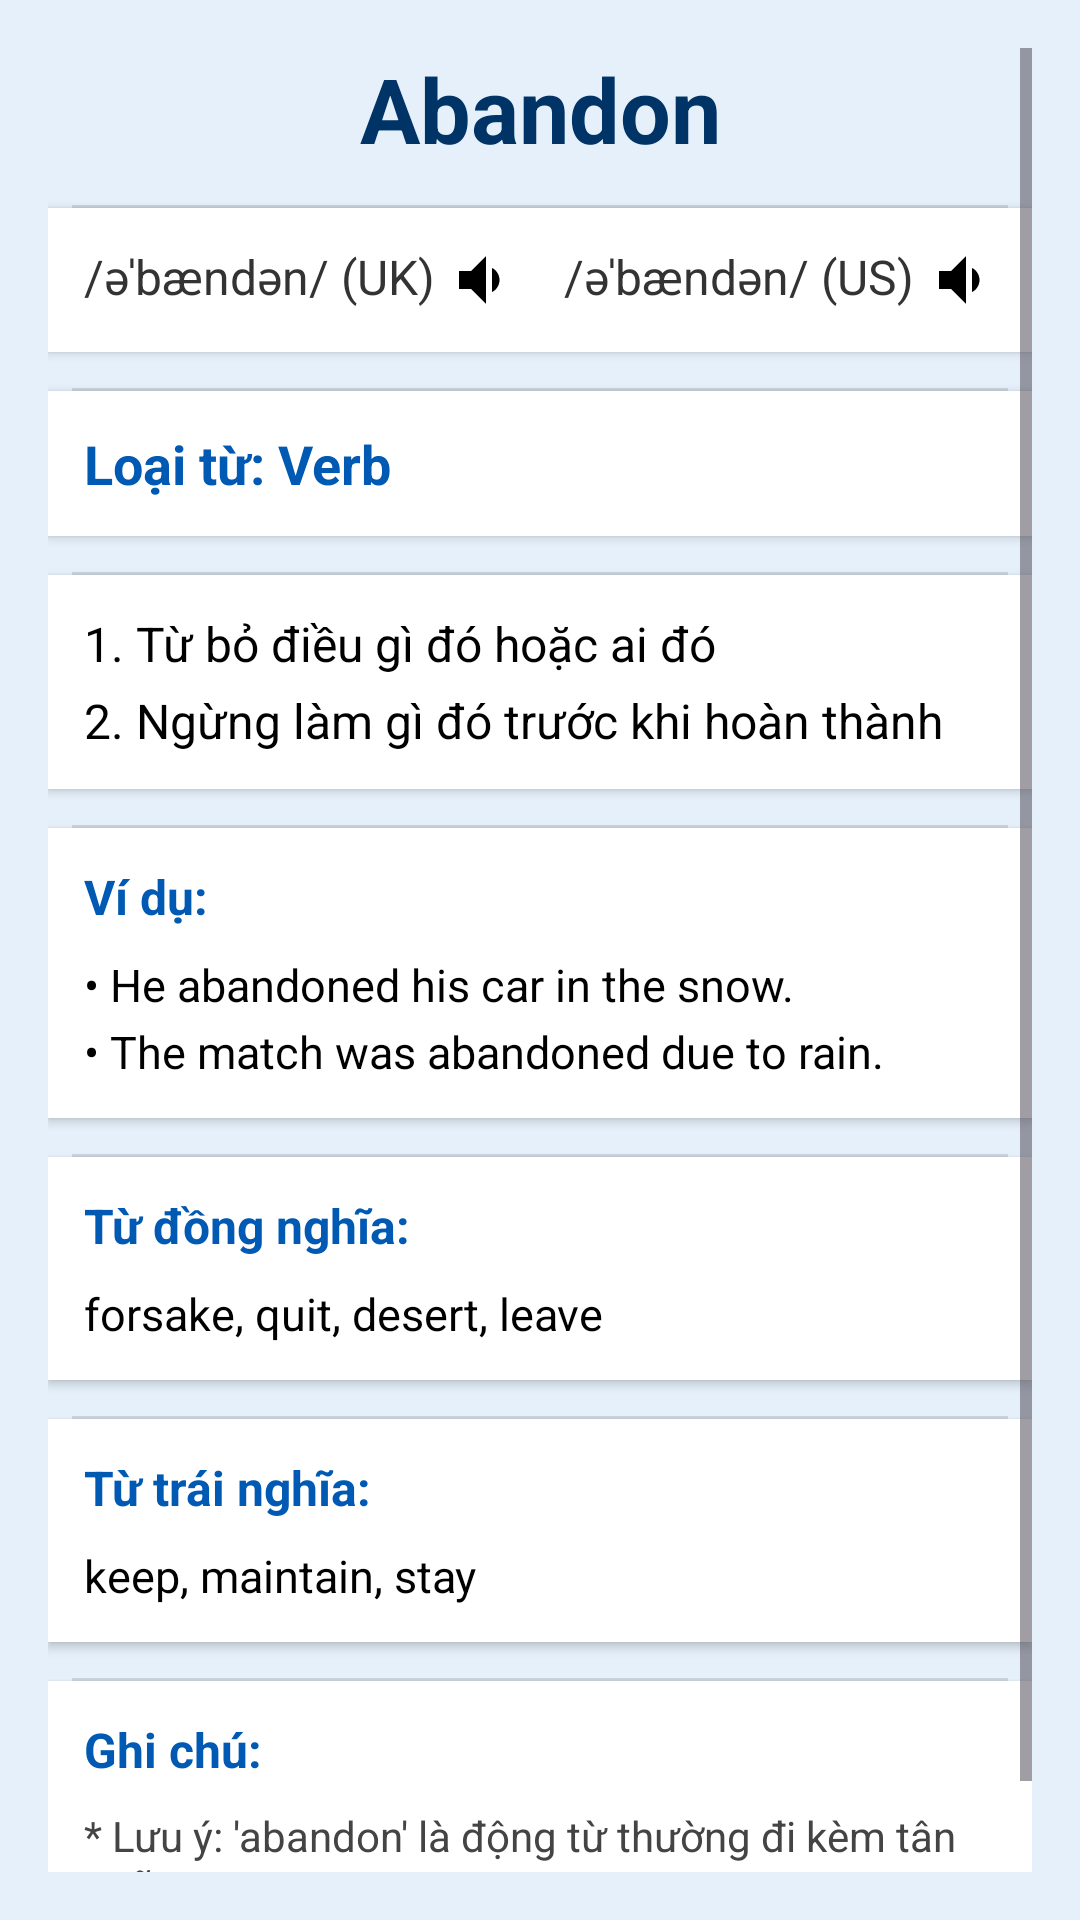

Screen size 1080px x 1920px. Icon name, then its box in pixels as (x1, y1, x2, y2):
Play UK: (459, 256, 500, 304)
Play US: (939, 256, 980, 304)
